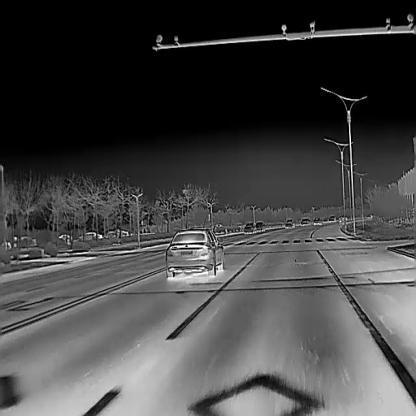car: (165, 227, 225, 277), (77, 231, 103, 241), (58, 233, 72, 245), (243, 221, 256, 233), (256, 220, 265, 231), (115, 229, 129, 236), (285, 219, 294, 227), (106, 231, 118, 237), (300, 218, 310, 225), (314, 217, 321, 224), (329, 215, 335, 221), (324, 216, 328, 221)
